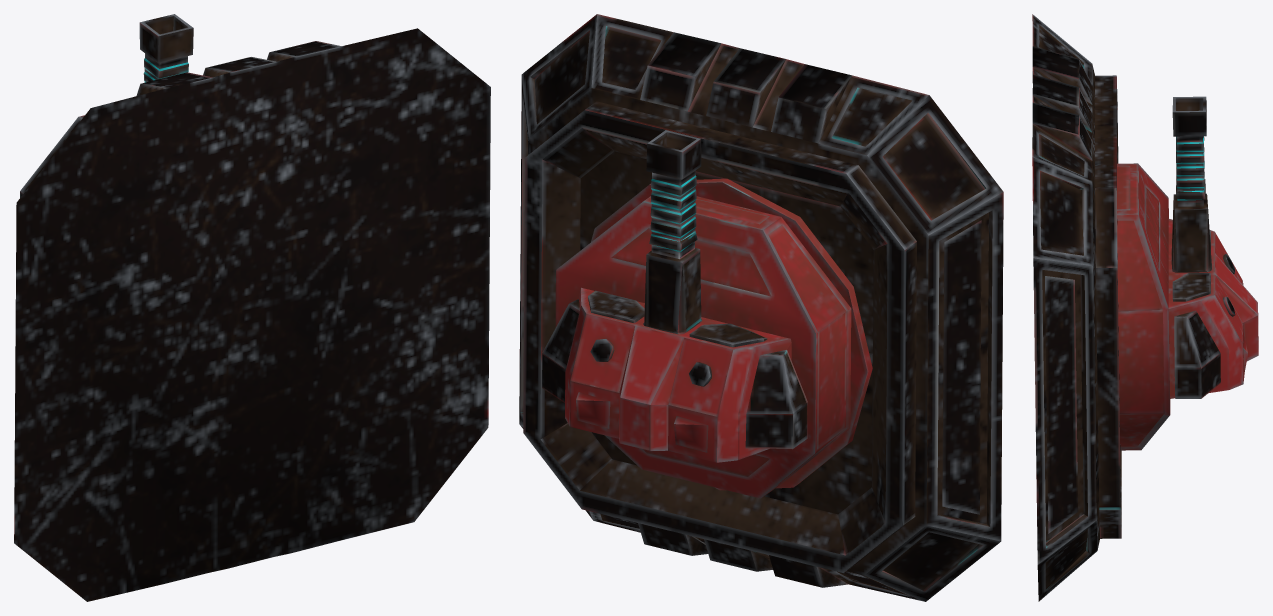
The model's file is turret.fbx.
3 renders of one model, left to right at view 1: azimuth 30°, elevation 25°; view 2: azimuth 150°, elevation 25°; view 3: azimuth 270°, elevation 25°, orthographic. The views are drawn at different scales.
Parts seen in each view (by area): view 1: Laser_turret; view 2: Laser_turret; view 3: Laser_turret.
Boxes of the visible parts, left/top/right/bottom form: Laser_turret: left=14, top=14, right=490, bottom=601; Laser_turret: left=519, top=14, right=1003, bottom=601; Laser_turret: left=1032, top=14, right=1258, bottom=601.
Size of the model in its own units: 2802 by 1291 by 2818.
1 material, 1 textured.
